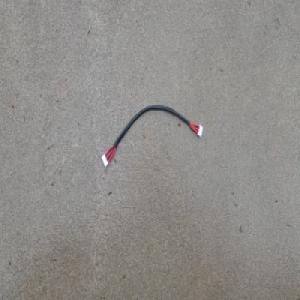Wire: (100, 103, 203, 168)
